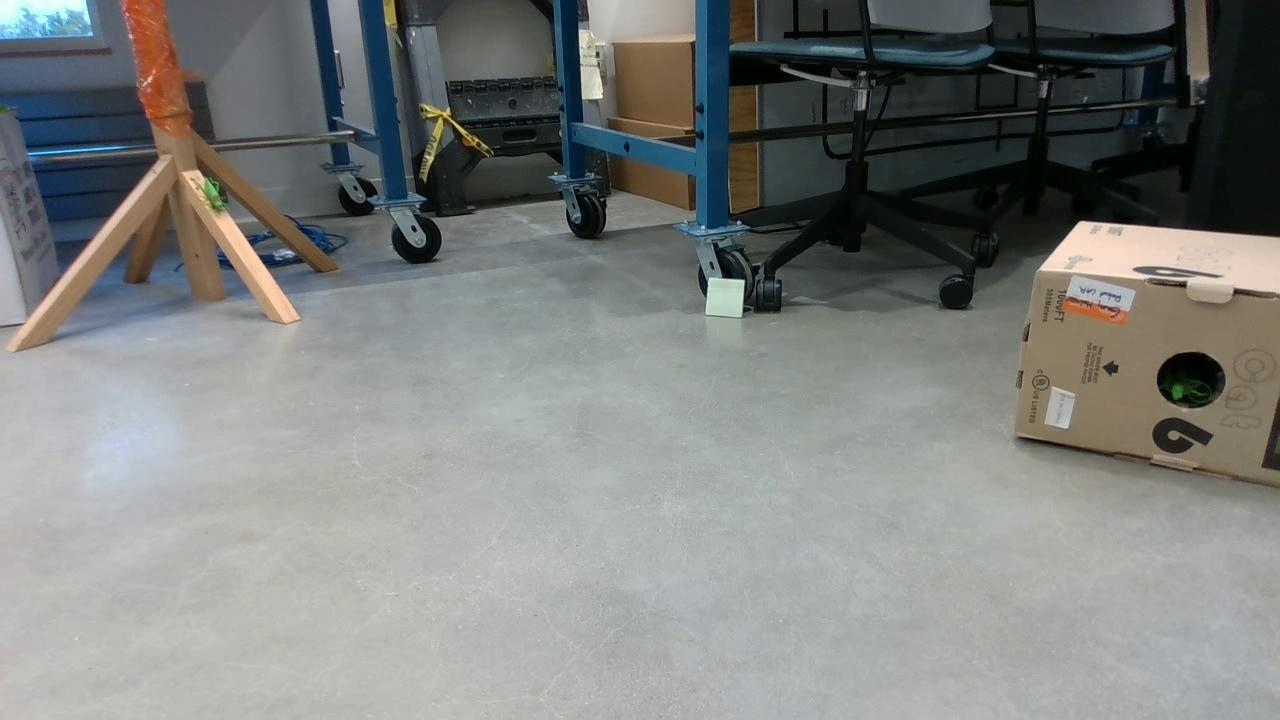grasshopper: (1161, 368, 1203, 401), (199, 175, 228, 212)
